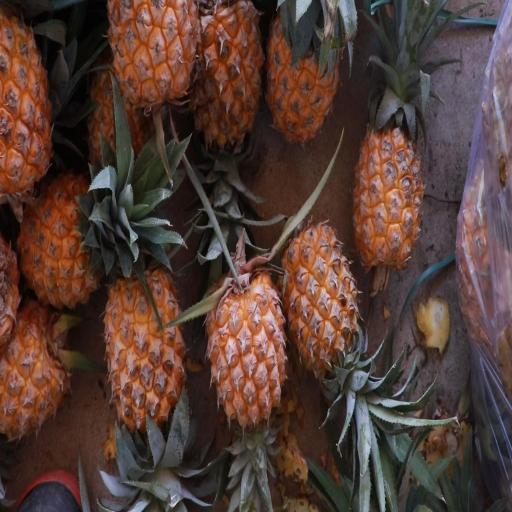Pineapple - v8 v1: (101, 255, 188, 466), (14, 168, 138, 314), (104, 0, 204, 177), (278, 215, 364, 408), (204, 254, 292, 438), (347, 83, 426, 273), (190, 0, 268, 163), (262, 4, 342, 153), (1, 2, 56, 208), (0, 290, 73, 442)
